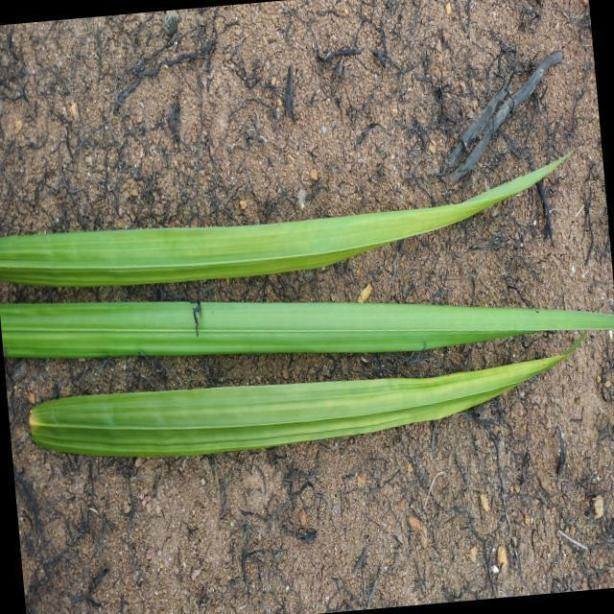nitrogen: (0, 158, 614, 291), (24, 355, 576, 456), (0, 290, 614, 356)
